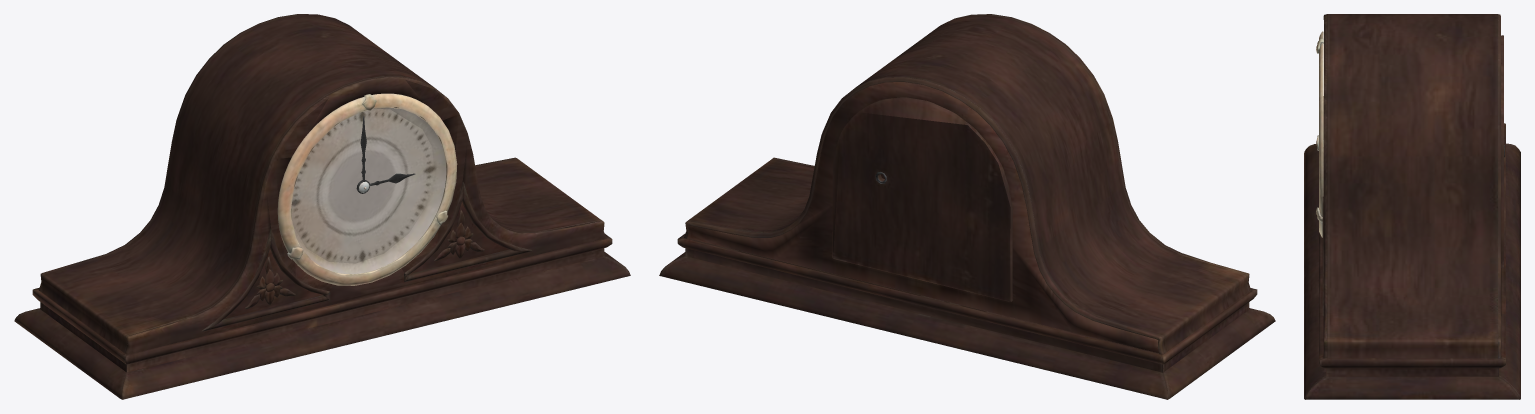
File: mantel_clock.glb
3 renders of one model, left to right at view 1: azimuth 30°, elevation 25°; view 2: azimuth 150°, elevation 25°; view 3: azimuth 270°, elevation 25°, orthographic.
Visible parts, largest first — view 1: mantel_clock_01; view 2: mantel_clock_01; view 3: mantel_clock_01.
Boxes of the visible parts, x1,y1,x2,y2 form: mantel_clock_01: (14, 14, 630, 399); mantel_clock_01: (659, 14, 1275, 399); mantel_clock_01: (1304, 14, 1520, 399).
Size of the model in its own units: 0.3424 by 0.1605 by 0.1262.
1 material, 1 textured.
